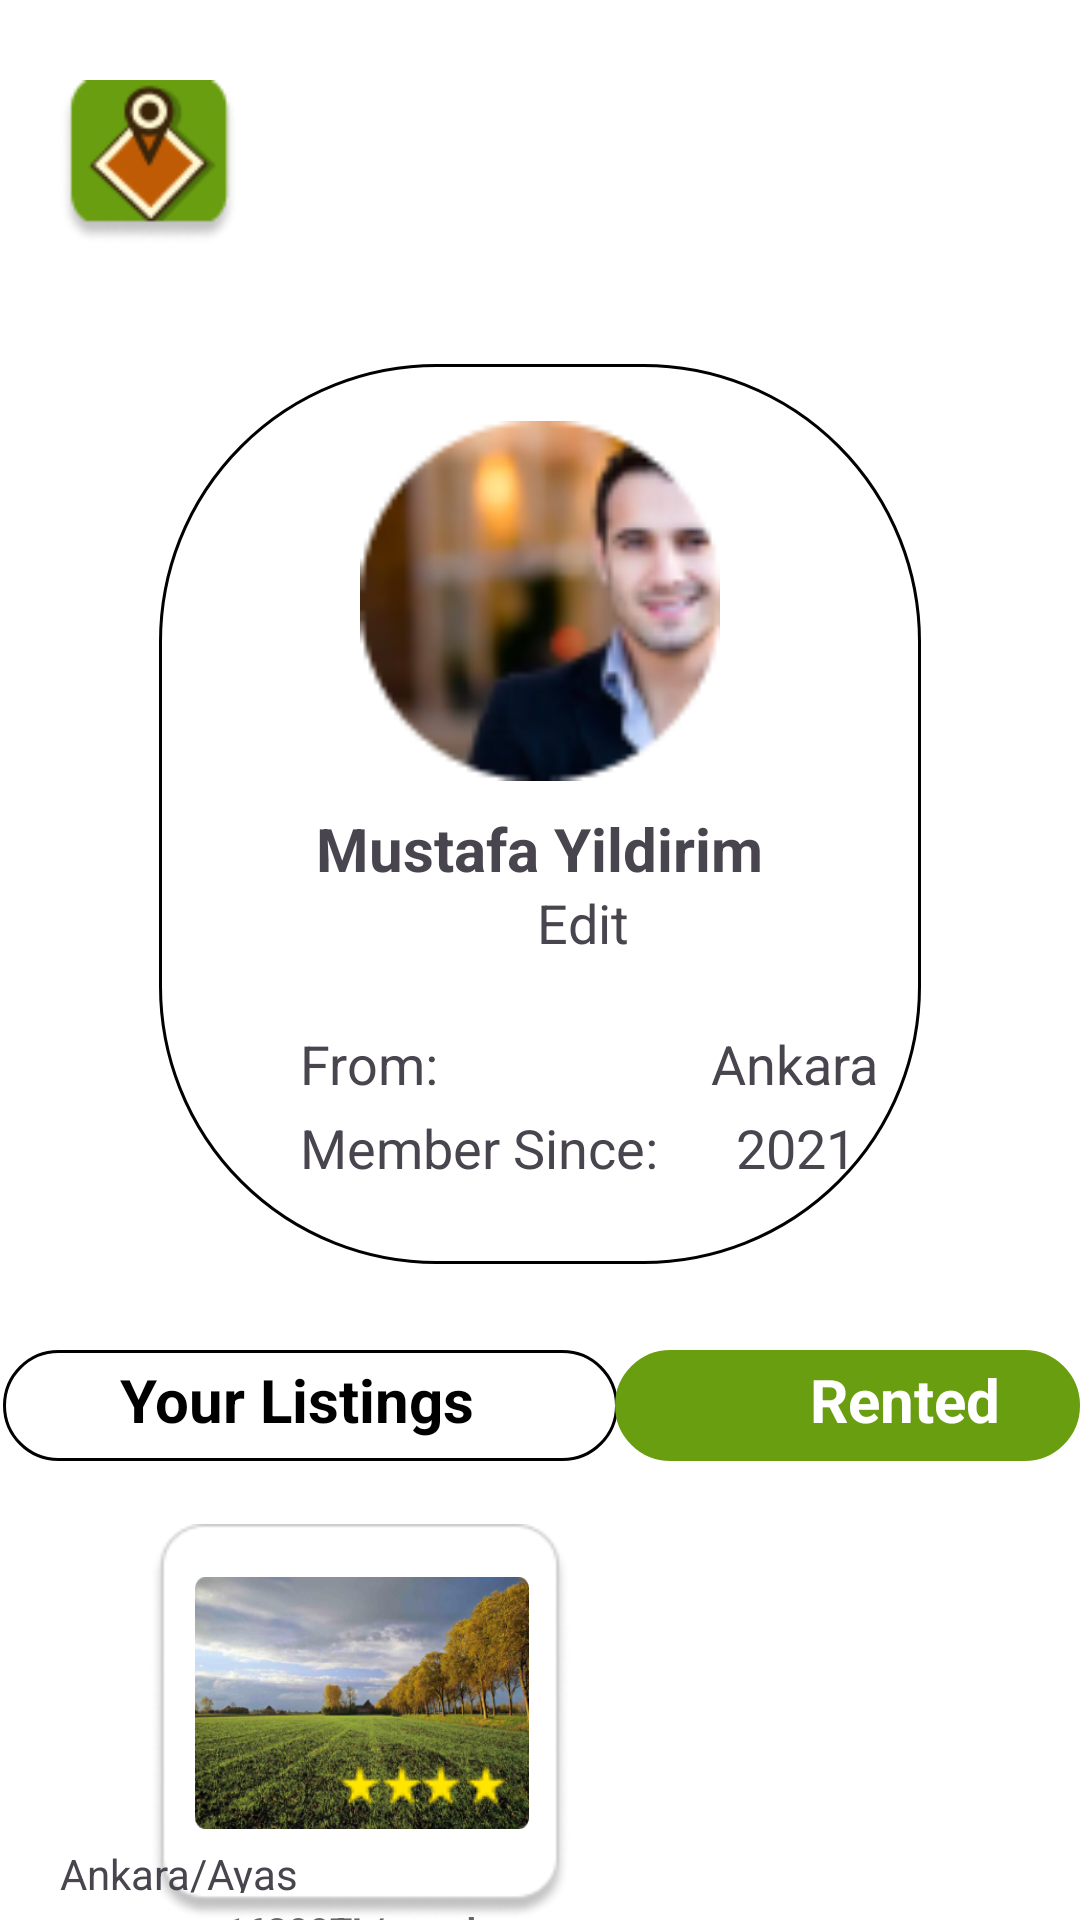

Icon click points for this 1080×1920 phone screenshot, format (x=x, y=y):
star: (x=360, y=1785), (x=402, y=1785), (x=441, y=1785), (x=486, y=1785)
